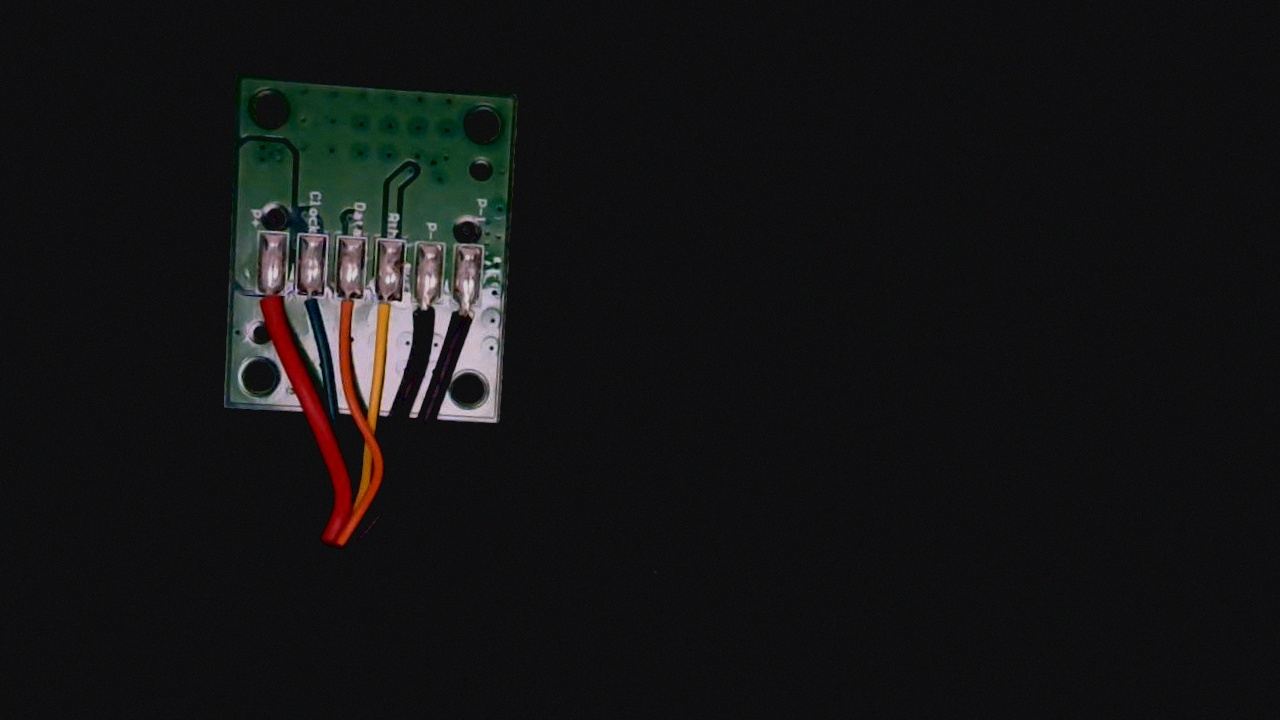Black: (406, 283, 443, 354)
Black1: (444, 286, 483, 355)
Green: (290, 275, 329, 340)
Orange: (329, 274, 367, 348)
Red: (248, 272, 288, 345)
Yellow: (365, 278, 405, 355)
